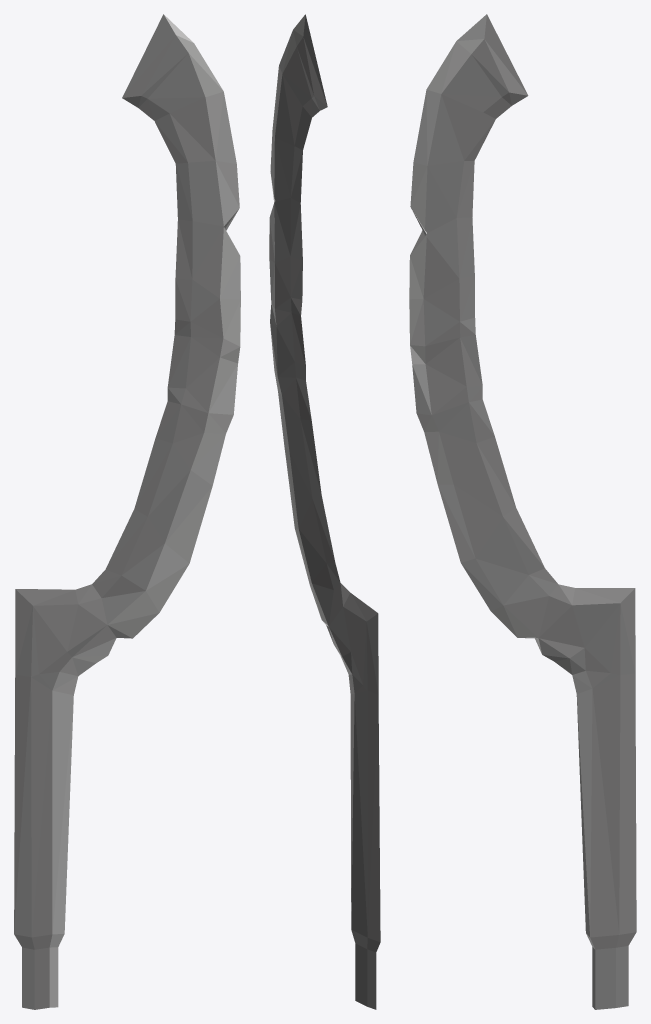
Rendered from SFFA_Blade_Iron_001.fbx.
3 views of the same model, side by side, from view 1: azimuth 90°, elevation 25°; view 2: azimuth 210°, elevation 25°; view 3: azimuth 270°, elevation 25° (orthographic). The views are drawn at different scales.
Visible parts, largest first — view 1: SFFA_Blade_Iron_001; view 2: SFFA_Blade_Iron_001; view 3: SFFA_Blade_Iron_001.
Part boxes in pixels (<box>): SFFA_Blade_Iron_001: <box>14,14,240,1009</box>; SFFA_Blade_Iron_001: <box>269,14,380,1009</box>; SFFA_Blade_Iron_001: <box>409,14,636,1009</box>.
Bounding box in the file's own units: 1.19 × 91.79 × 19.
